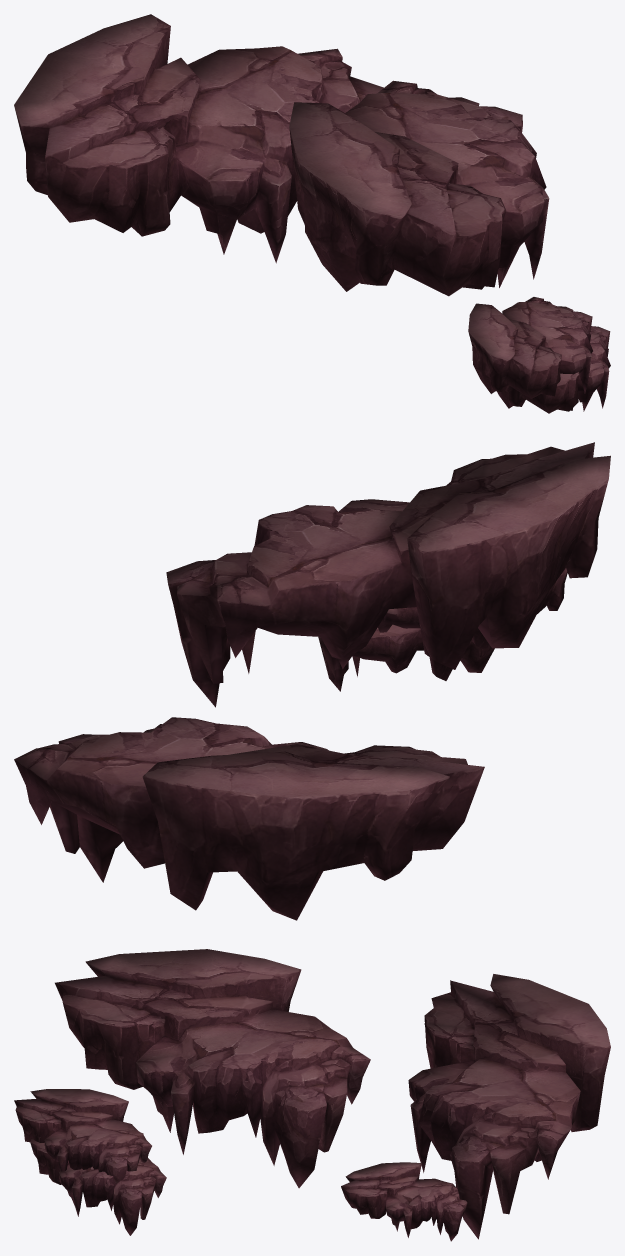
Rendered from Area_13_15.fbx.
3 renders of one model, top to bottom at view 1: azimuth 30°, elevation 25°; view 2: azimuth 150°, elevation 25°; view 3: azimuth 270°, elevation 25°, orthographic. The views are drawn at different scales.
Visible parts, largest first — view 1: Area_13_15; view 2: Area_13_15; view 3: Area_13_15.
Boxes of the visible parts, x1,y1,x2,y2 form: Area_13_15: [14, 14, 610, 413]; Area_13_15: [14, 442, 610, 920]; Area_13_15: [14, 949, 610, 1241].
Size of the model in its own units: 4113 by 2675 by 7131.
